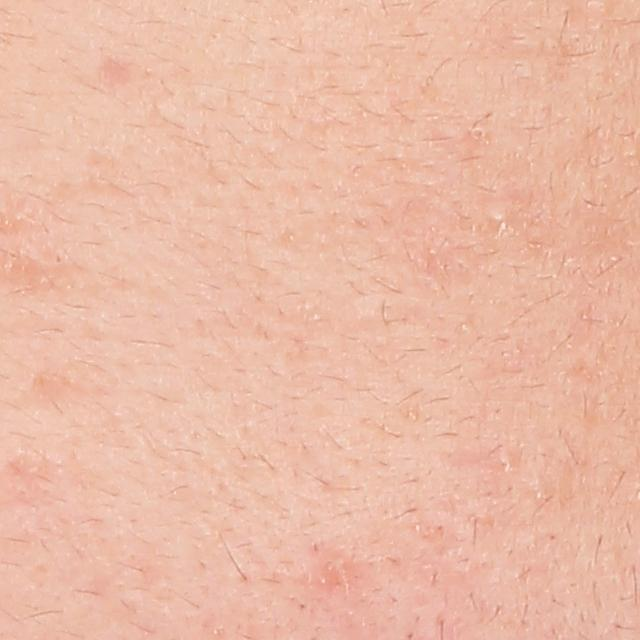comedo: (497, 446, 520, 479), (468, 125, 488, 144)
